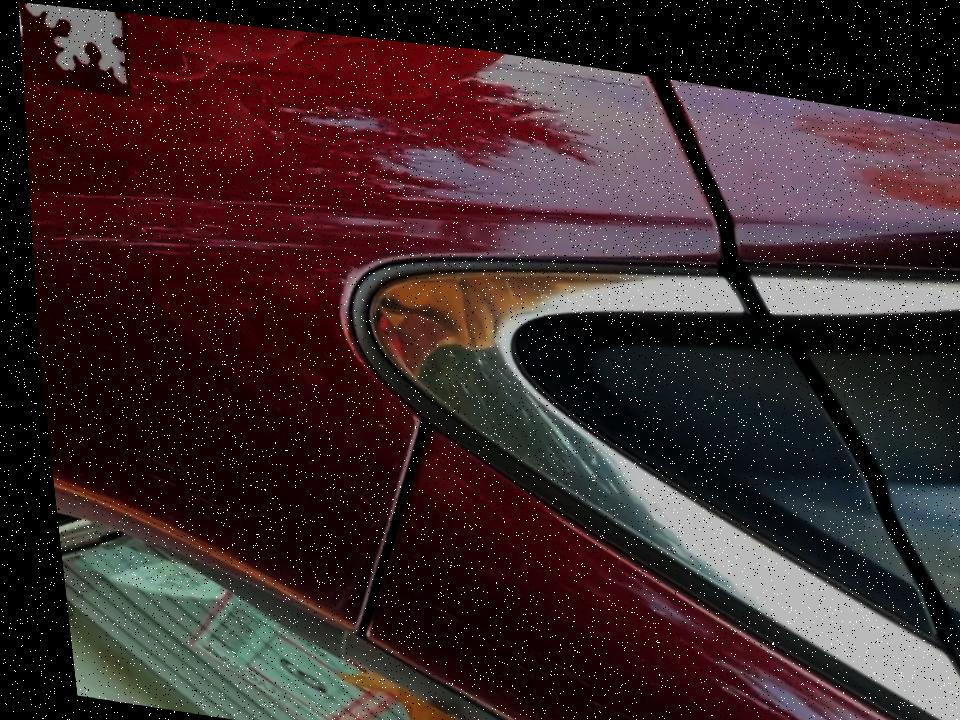dent: (16, 1, 134, 94)
